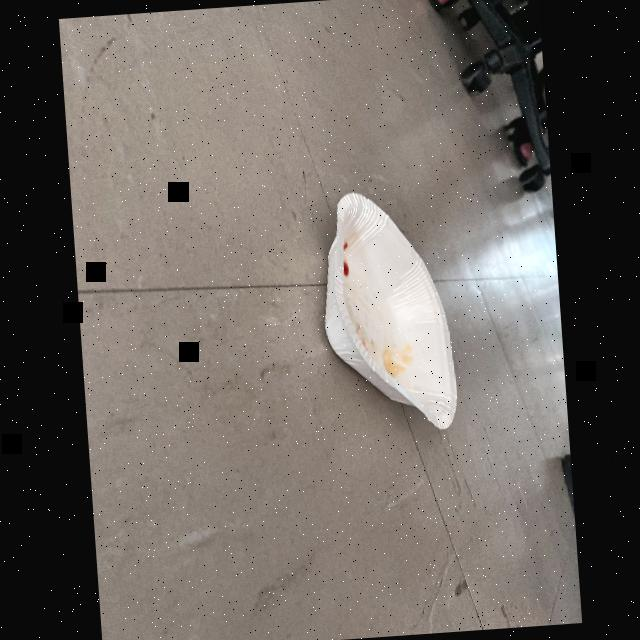cardboard_bowl: (309, 175, 468, 447)
